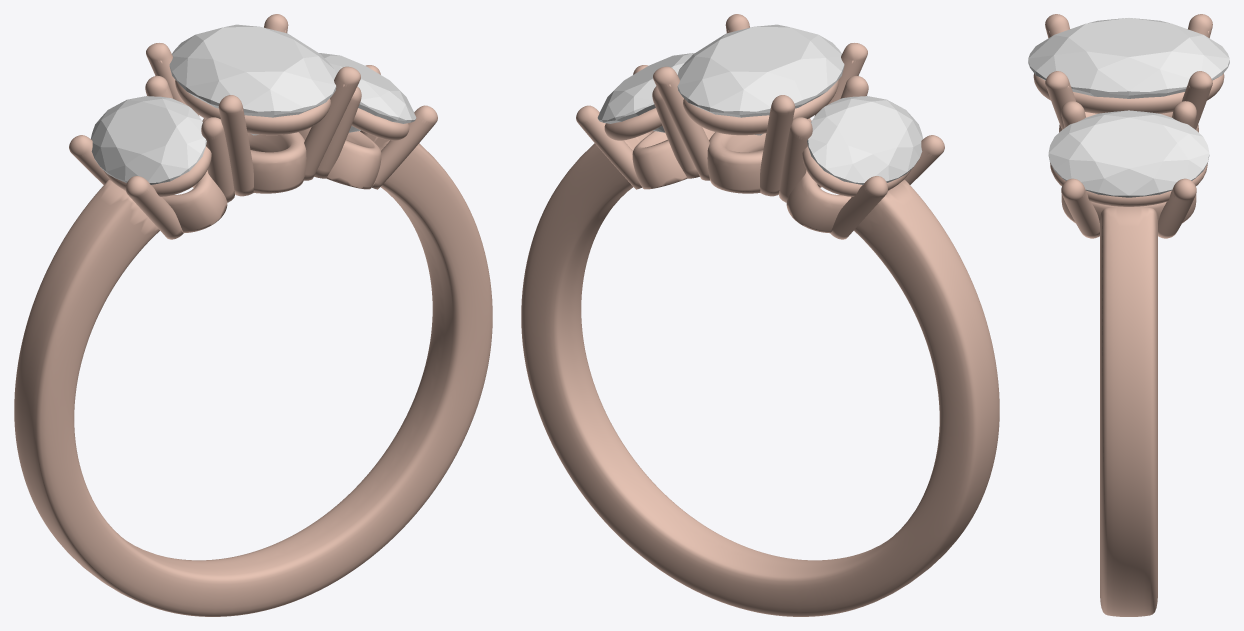
File: diamond-oval-rosegold-4prong-straightband-3stone.glb
3 renders of one model, left to right at view 1: azimuth 30°, elevation 25°; view 2: azimuth 150°, elevation 25°; view 3: azimuth 270°, elevation 25°, orthographic.
Parts seen in each view (by area): view 1: metal, stone, side.001, side; view 2: metal, stone, side.001, side; view 3: metal, stone, side.
Boxes of the visible parts, <box> form: metal: <box>14,14,492,616</box>; stone: <box>169,24,336,135</box>; side.001: <box>91,96,206,184</box>; side: <box>319,53,416,132</box>; metal: <box>521,14,999,616</box>; stone: <box>677,24,844,135</box>; side.001: <box>807,96,922,184</box>; side: <box>597,53,694,132</box>; metal: <box>1033,14,1224,616</box>; stone: <box>1028,18,1229,98</box>; side: <box>1048,110,1209,197</box>.
Size of the model in its own units: 20.1 by 23.21 by 7.64.
